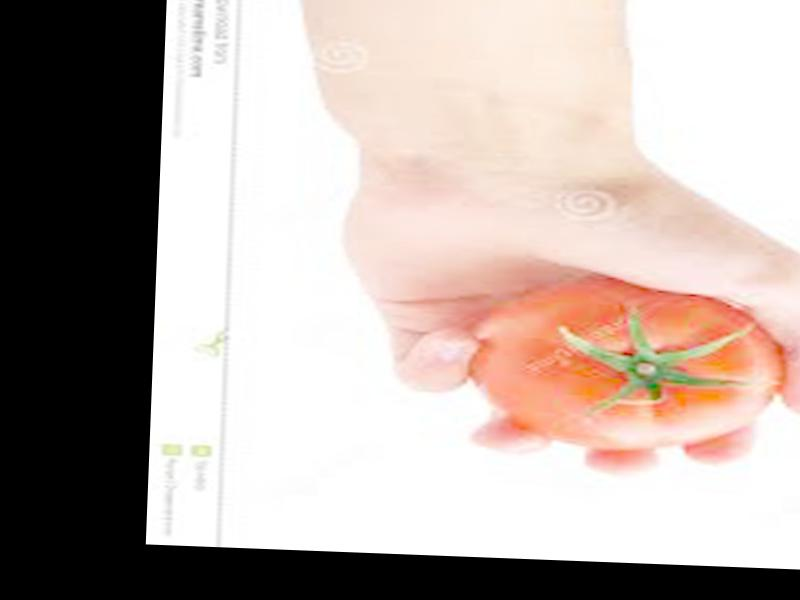Tomato: (464, 278, 781, 455)
